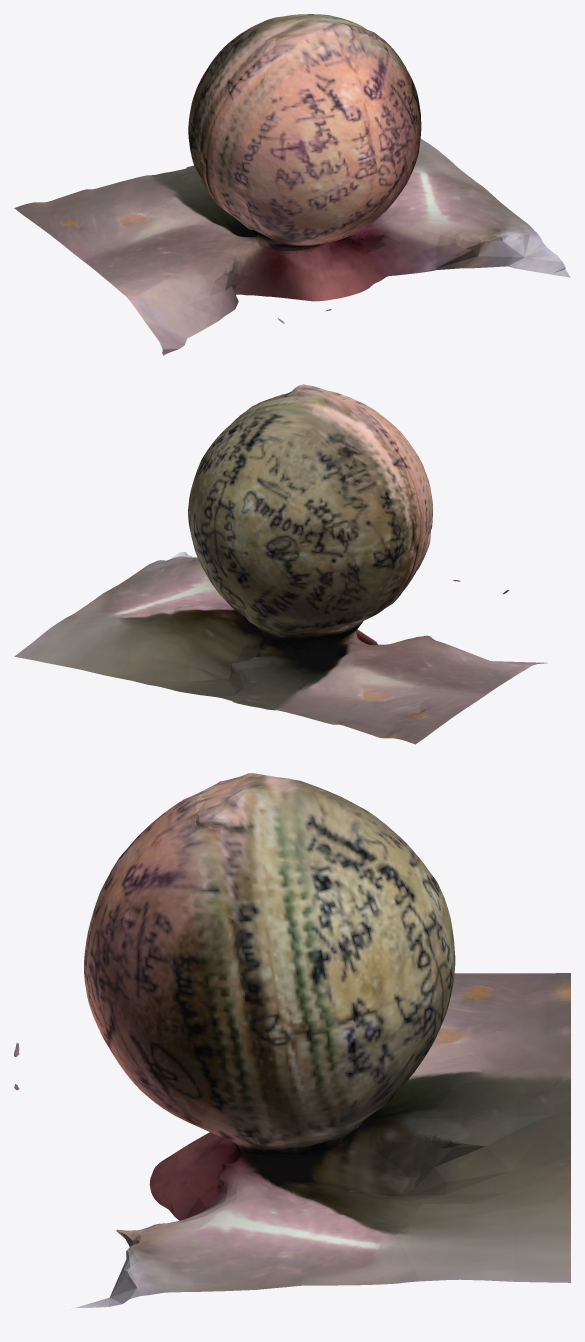
The model's file is WhiteBall.glb.
The picture shows the model from 3 angles, top to bottom: view 1: azimuth 30°, elevation 25°; view 2: azimuth 150°, elevation 25°; view 3: azimuth 270°, elevation 25°; orthographic projection. The views are drawn at different scales.
Parts seen in each view (by area): view 1: mesh; view 2: mesh; view 3: mesh.
Part boxes in pixels (x1=…): mesh: x1=14, y1=14, x2=570, y2=355; mesh: x1=14, y1=384, x2=547, y2=744; mesh: x1=14, y1=773, x2=570, y2=1307.
Size of the model in its own units: 0.1349 by 0.0839 by 0.1078.
Materials: 1 (1 with a texture image).
